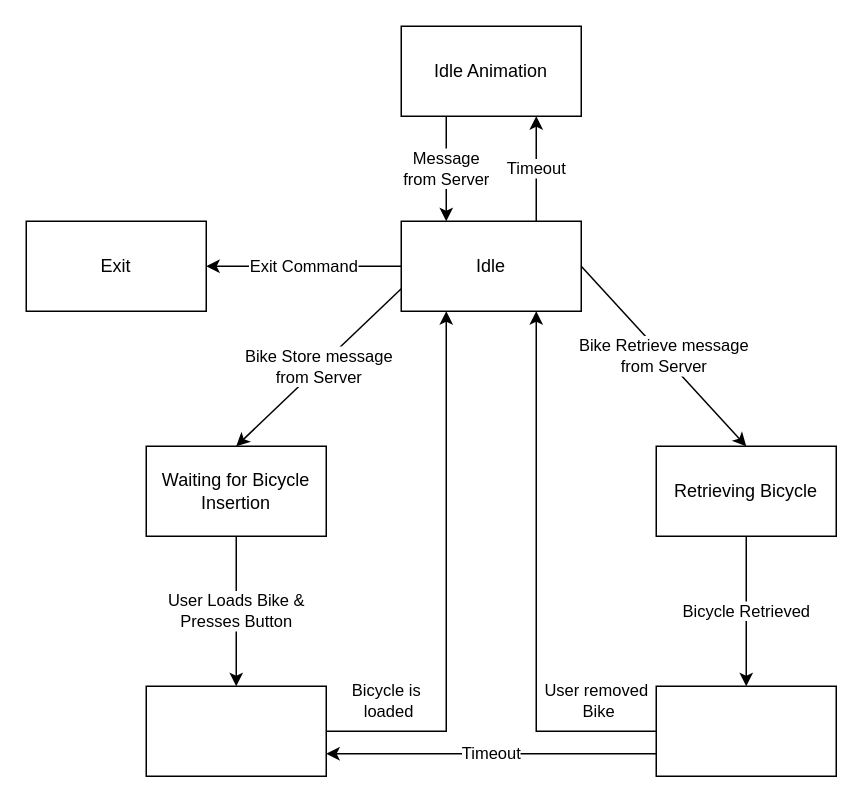
This 863x803 diagram has some shape labels left out. The centre of each missing label's shape, as x and y in pixels:
"Storing Bicylce" goes at pixel 235 730.
"Waiting for Bicycle Removal" goes at pixel 745 730.
